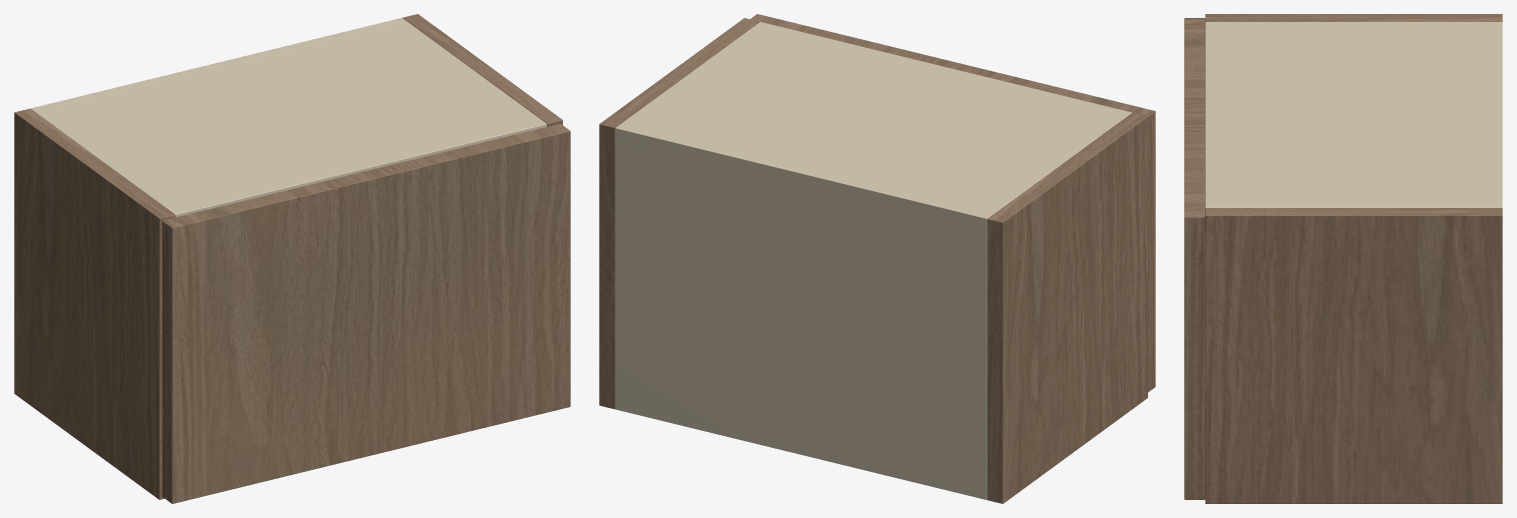
Rendered from oppein-ply-mnw-w1812.glb.
The picture shows the model from 3 angles, left to right: view 1: azimuth 30°, elevation 25°; view 2: azimuth 150°, elevation 25°; view 3: azimuth 270°, elevation 25°; orthographic projection. The views are drawn at different scales.
Visible parts, largest first — view 1: Door, Cabinet top, Cabinet side, Cabinet side.001, Cabinet back; view 2: Cabinet back, Cabinet top, Cabinet side, Cabinet side.001, Door, Cabinet bottom; view 3: Cabinet side.001, Cabinet top, Door, Cabinet side, Cabinet back.
Part boxes in pixels (x1,y1,x2,y2): Door: (162, 123, 570, 503); Cabinet top: (36, 18, 546, 217); Cabinet side: (14, 108, 174, 499); Cabinet side.001: (402, 14, 562, 126); Cabinet back: (30, 18, 407, 112); Cabinet back: (615, 123, 992, 499); Cabinet top: (615, 22, 1131, 230); Cabinet side: (987, 112, 1147, 503); Cabinet side.001: (599, 18, 759, 409); Door: (750, 14, 1155, 392); Cabinet bottom: (615, 404, 987, 499); Cabinet side.001: (1205, 208, 1502, 503); Cabinet top: (1205, 22, 1501, 207); Door: (1184, 18, 1205, 499); Cabinet side: (1205, 14, 1502, 21); Cabinet back: (1490, 22, 1502, 207).
Size of the model in its own units: 0.4572 by 0.3048 by 0.3048.
2 materials, 1 textured.
